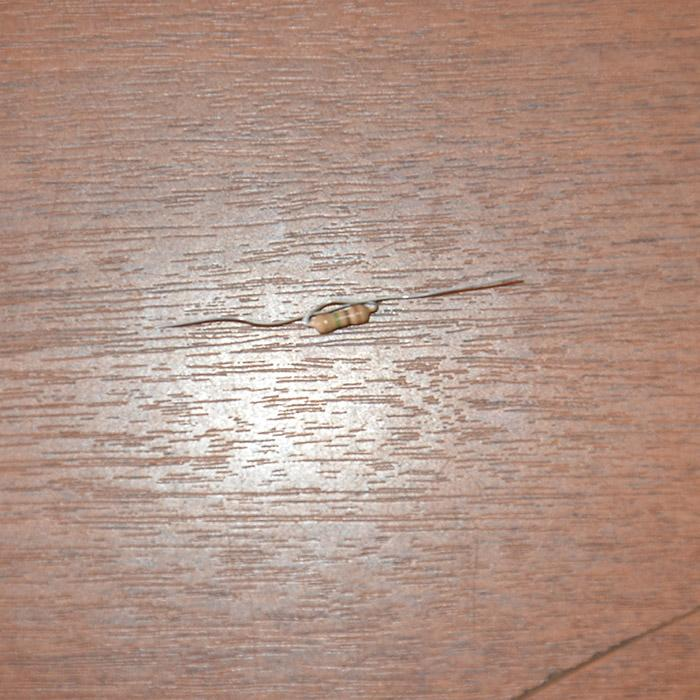resistor: (307, 302, 373, 334)
